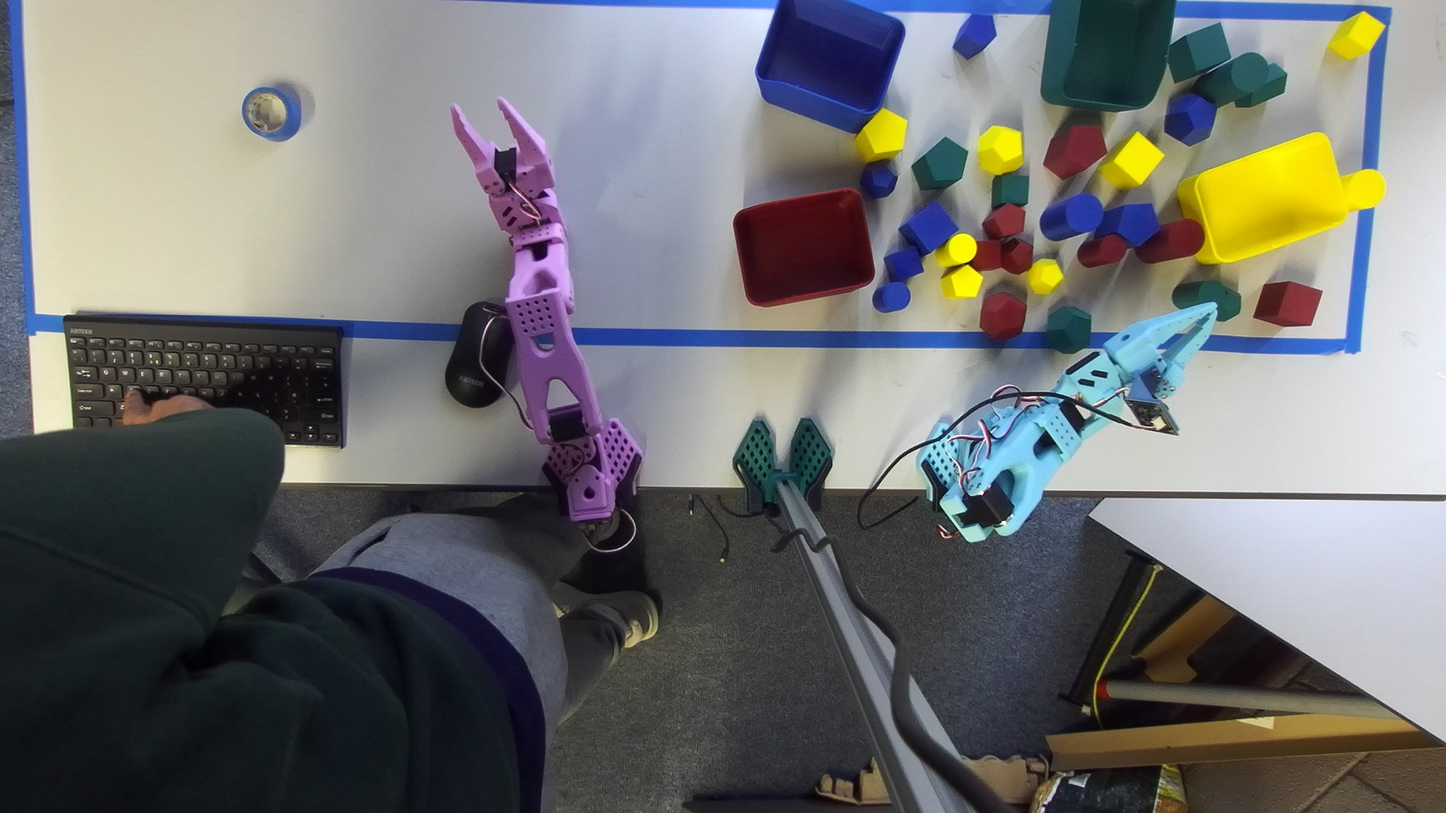bin: (1177, 132, 1346, 263), (755, 0, 905, 133), (733, 188, 874, 306), (1041, 0, 1175, 111)
cube: (1168, 23, 1230, 82), (1099, 132, 1164, 188), (1253, 282, 1322, 327), (899, 201, 957, 253), (1328, 11, 1384, 59), (884, 247, 923, 282), (991, 172, 1029, 207), (970, 240, 1001, 272)
cylinder: (1191, 53, 1270, 105), (1134, 218, 1204, 263), (1039, 192, 1103, 240), (1341, 169, 1385, 210), (1077, 234, 1129, 267), (1172, 279, 1229, 307), (935, 233, 976, 267), (872, 282, 911, 312)
dodecahedron: (1164, 93, 1216, 146), (1045, 306, 1091, 354), (980, 292, 1026, 340), (978, 126, 1023, 174), (859, 161, 898, 199), (1026, 258, 1063, 295), (1203, 285, 1240, 321), (1000, 238, 1033, 274)
gripper: (450, 97, 561, 247), (1103, 302, 1217, 398)
hexagonal: (1043, 125, 1106, 178), (911, 137, 967, 190), (855, 108, 907, 162), (1094, 202, 1158, 245), (1236, 64, 1286, 107), (953, 14, 996, 59), (982, 203, 1025, 239), (941, 265, 982, 297)
